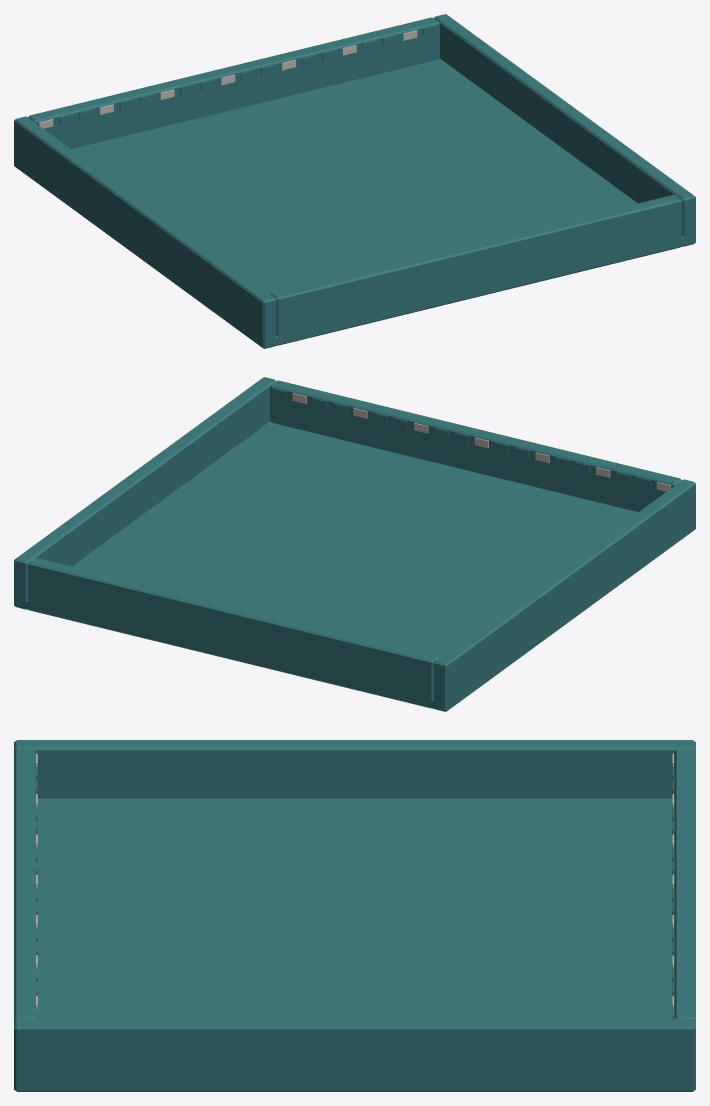
File: mobile.glb
3 views of the same model, one above another, from view 1: azimuth 30°, elevation 25°; view 2: azimuth 150°, elevation 25°; view 3: azimuth 270°, elevation 25° (orthographic). The views are drawn at different scales.
Size of the model in its own units: 2.82 by 0.3 by 2.82.
1 material, 1 textured.
